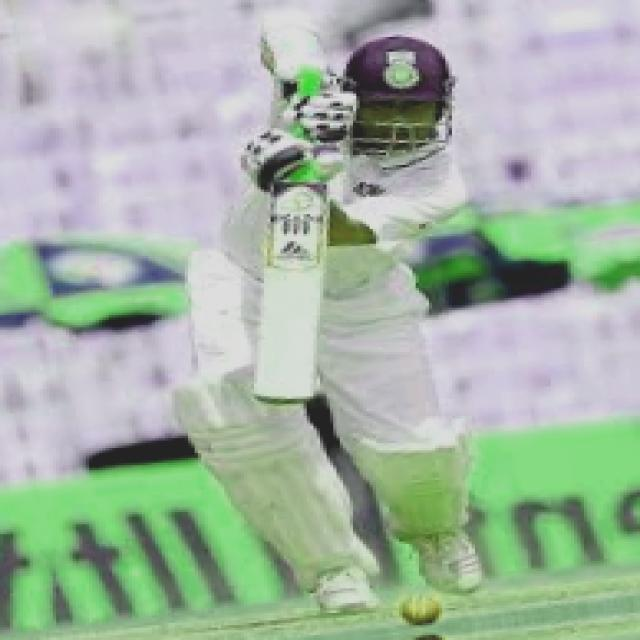toe: (238, 348, 330, 414)
